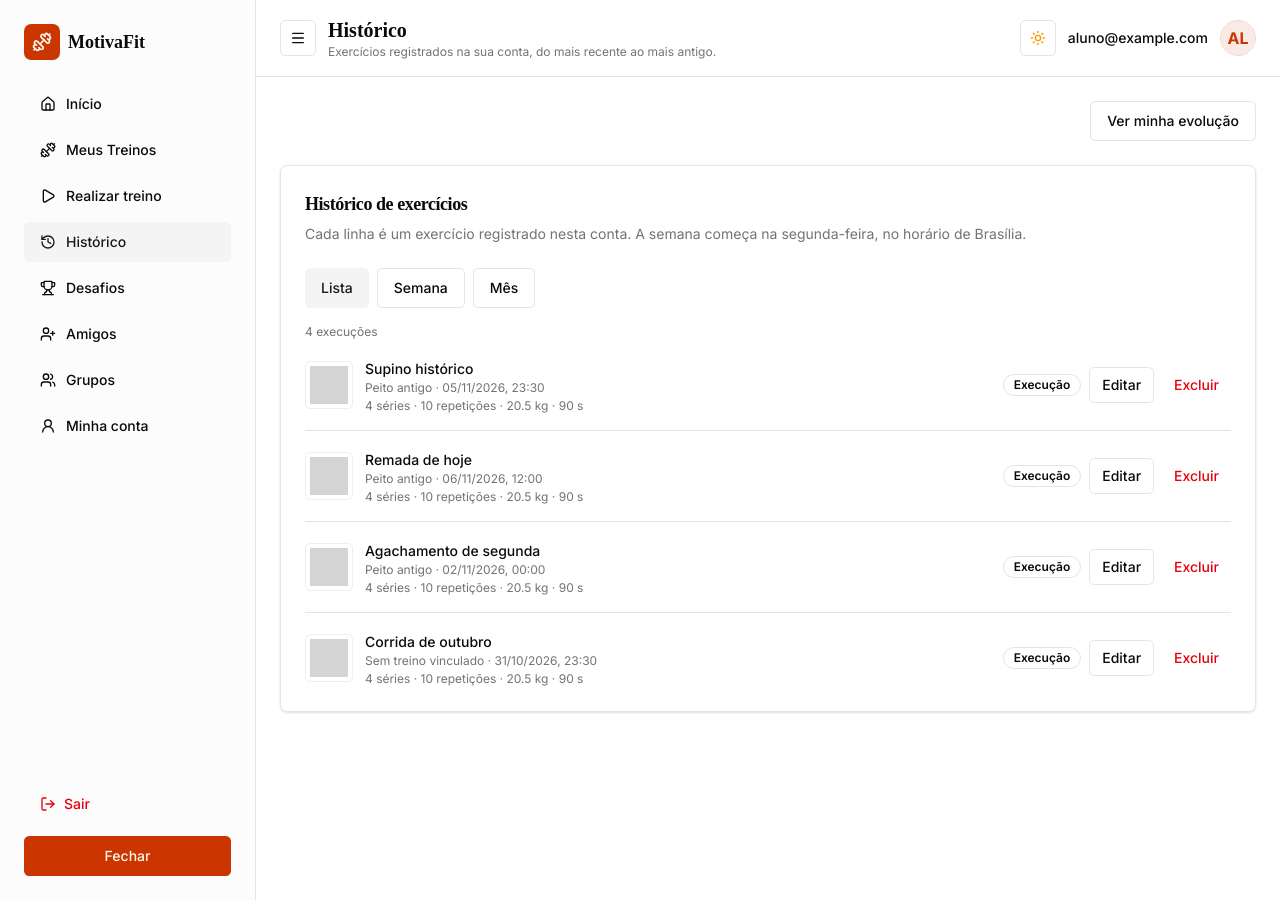
Test: histórico de exercícios › pagina a semana civil de Brasília e não avança além da semana atual
Expected: the text "Remada de hoje" is shown, [365, 451, 472, 468]
Click the button "Semana".
click(421, 288)  # box [377, 268, 465, 308]
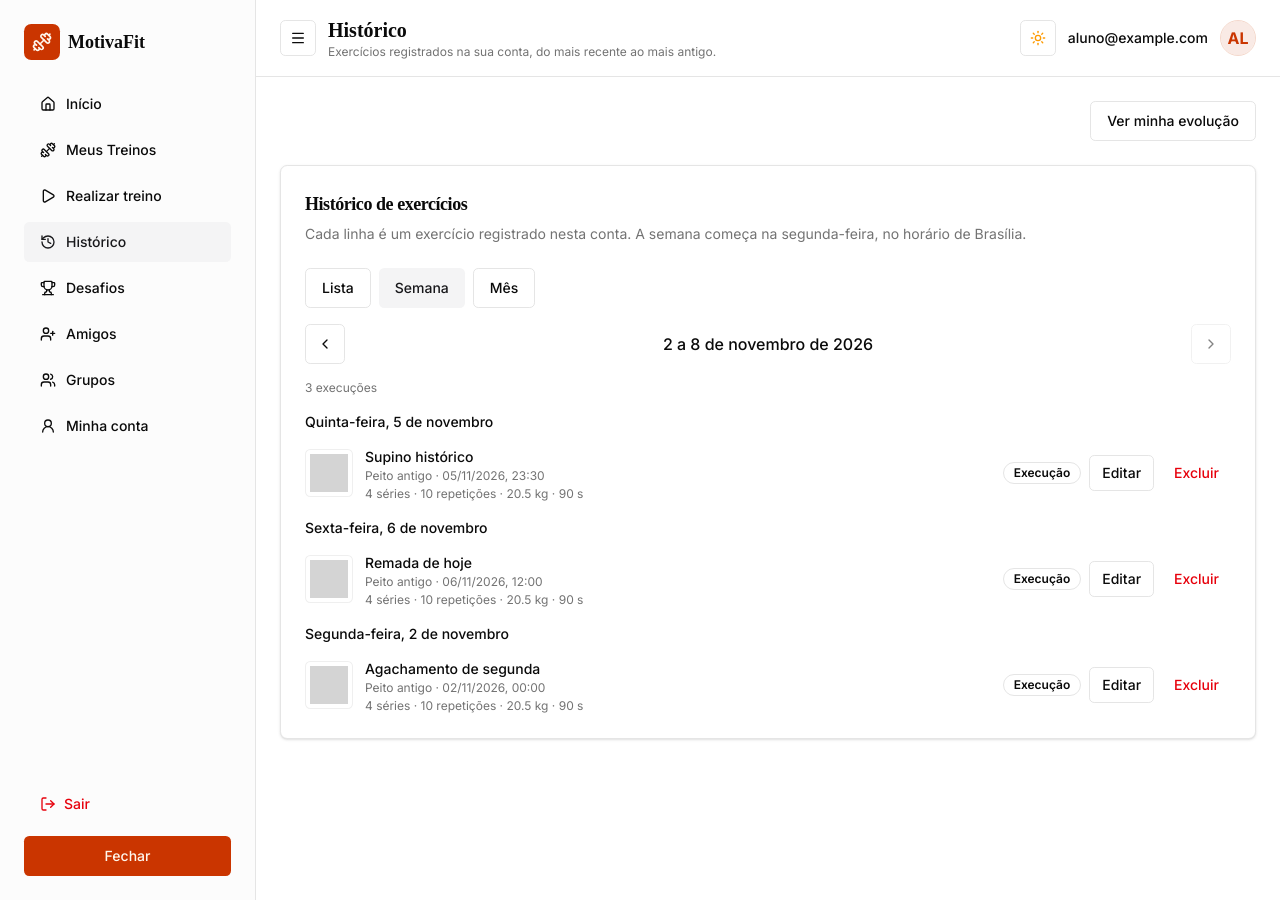
Now the heading "2 a 8 de novembro de 2026" is shown, box [663, 334, 873, 354]
Now the element "Quinta-feira, 5 de novembro" is shown, box [305, 412, 1231, 502]
Now the text "Corrida de outubro" is gone
Click the button named "Semana anterior".
click(325, 344)  # box [305, 324, 345, 364]
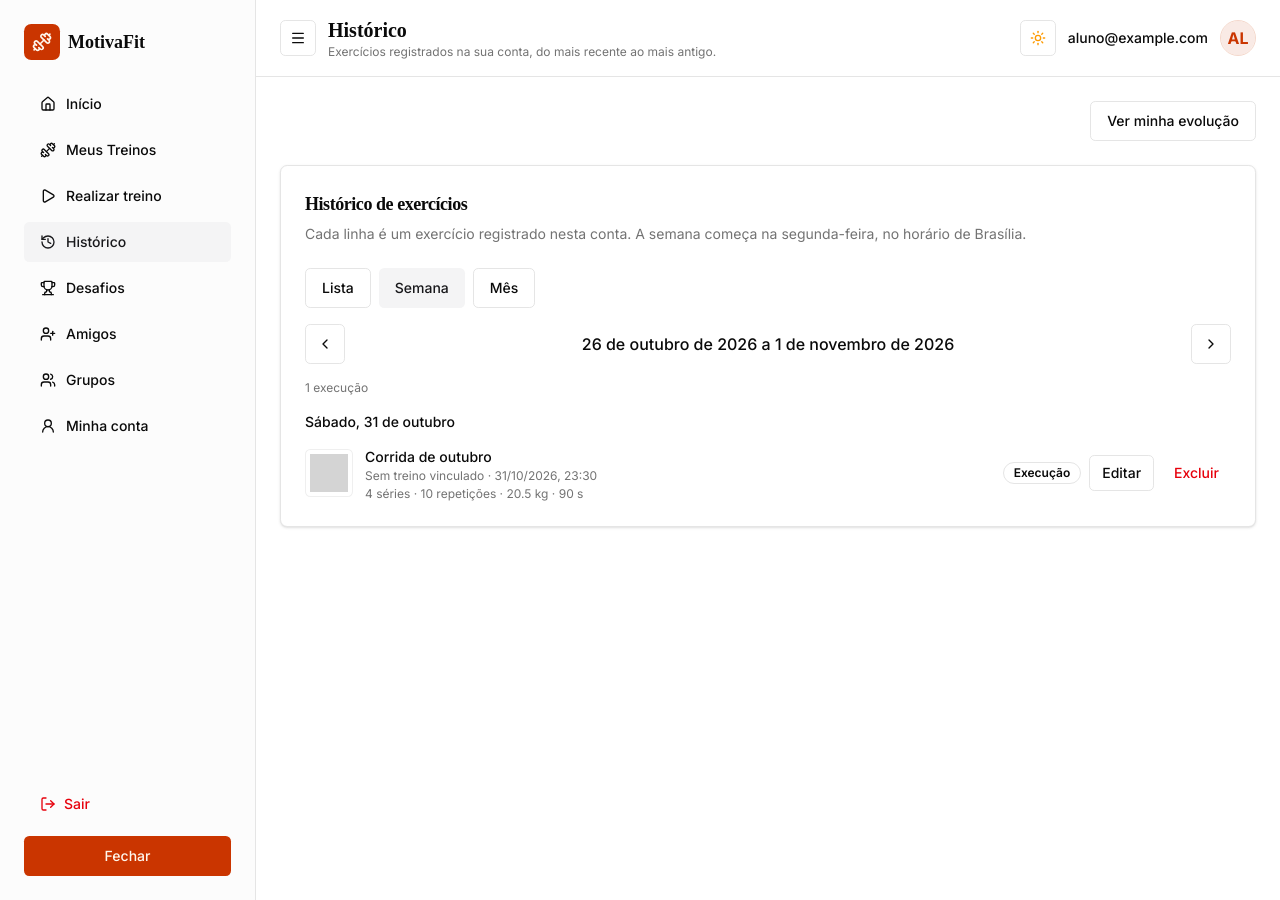
Now the heading "26 de outubro de 2026 a 1 de novembro de 2026" is shown, box [582, 334, 954, 354]
Now the text "Corrida de outubro" is shown, box [365, 448, 492, 465]
Now the text "Remada de hoje" is gone
Click the button named "Próxima semana".
click(1211, 344)  # box [1191, 324, 1231, 364]
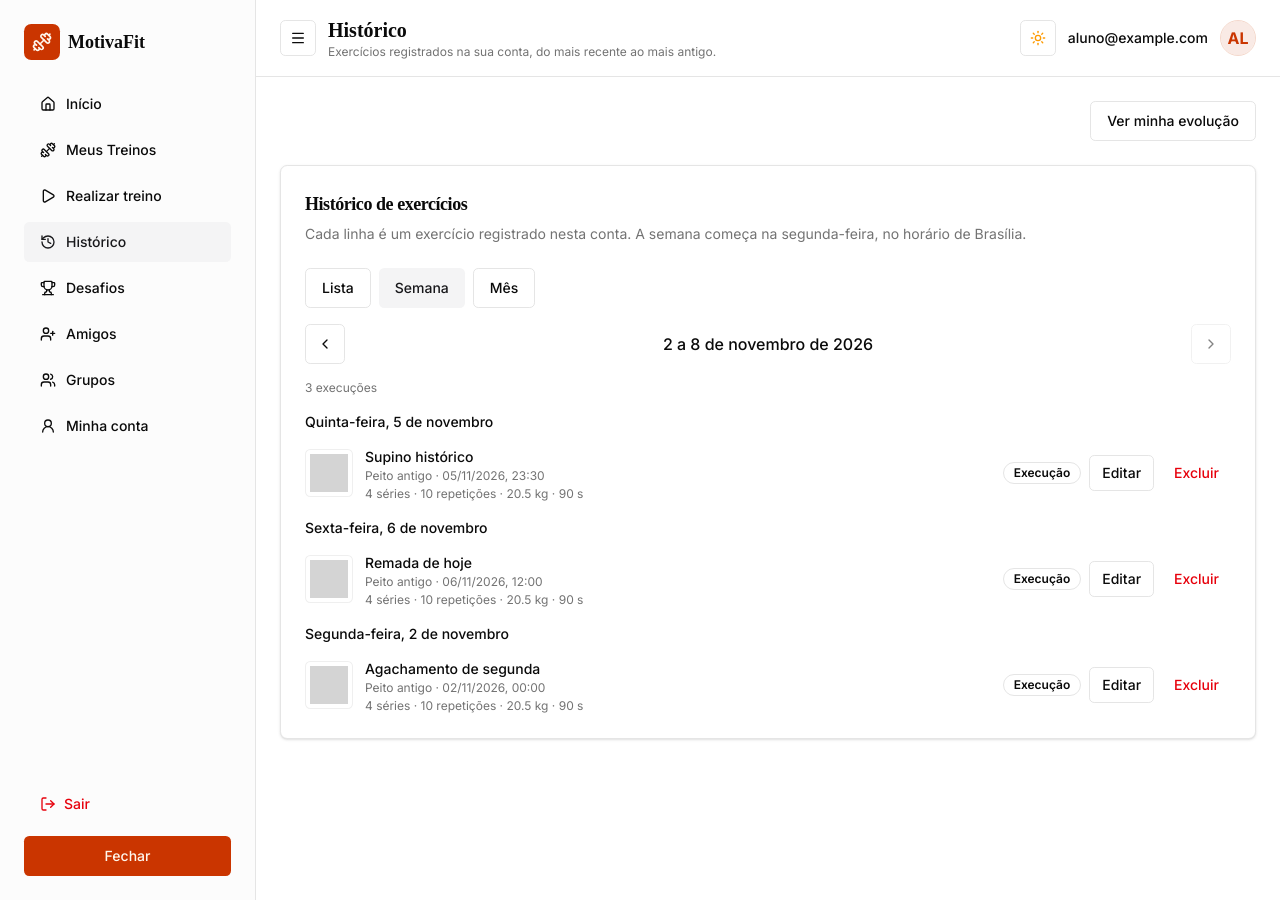
Now the heading "2 a 8 de novembro de 2026" is shown, box [663, 334, 873, 354]
Now the text "Agachamento de segunda" is shown, box [365, 660, 540, 677]
